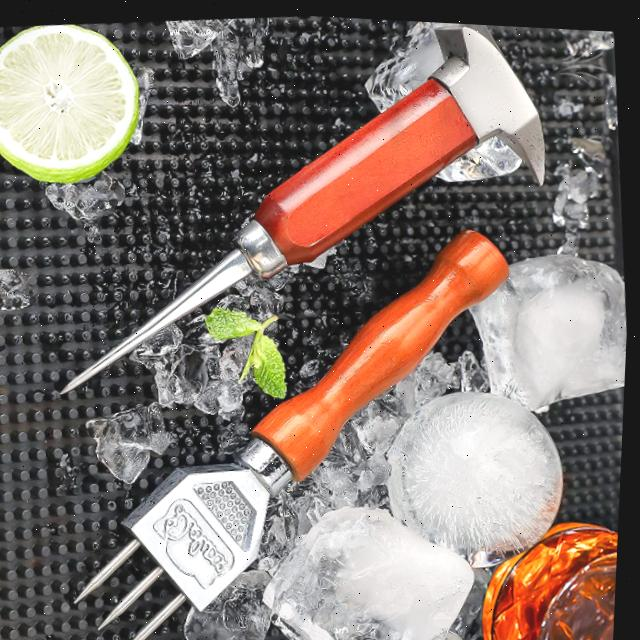ice pick: (32, 2, 569, 413), (46, 203, 544, 640)
